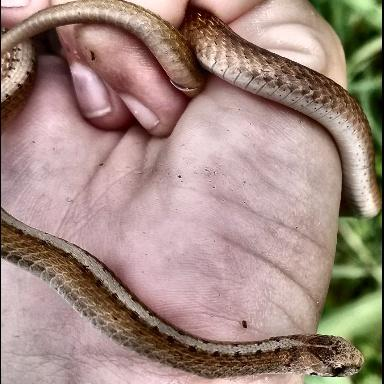snake: (2, 0, 376, 378)
